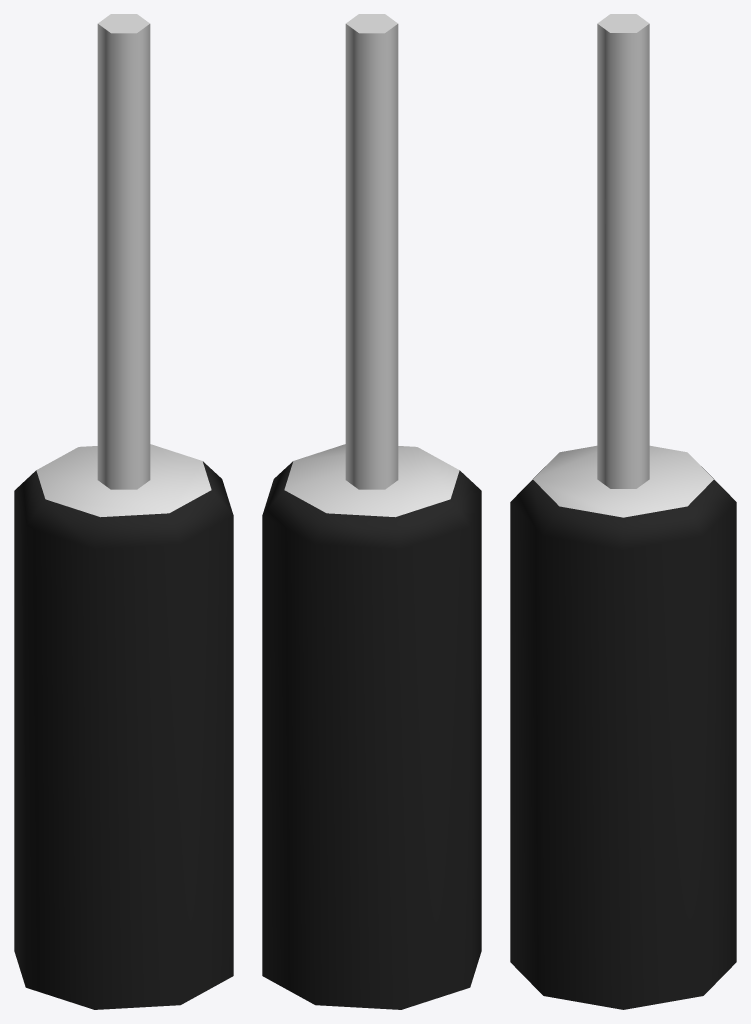
Rendered from bathroom_023.fbx.
3 renders of one model, left to right at view 1: azimuth 30°, elevation 25°; view 2: azimuth 150°, elevation 25°; view 3: azimuth 270°, elevation 25°, orthographic.
Visible parts, largest first — view 1: bathroom_023; view 2: bathroom_023; view 3: bathroom_023.
Part boxes in pixels (bbox=[...]): bathroom_023: bbox=[14, 14, 233, 1009]; bathroom_023: bbox=[262, 14, 481, 1009]; bathroom_023: bbox=[510, 14, 736, 1009].
Bounding box in the file's own units: 12.33 × 12.33 × 56.37.
